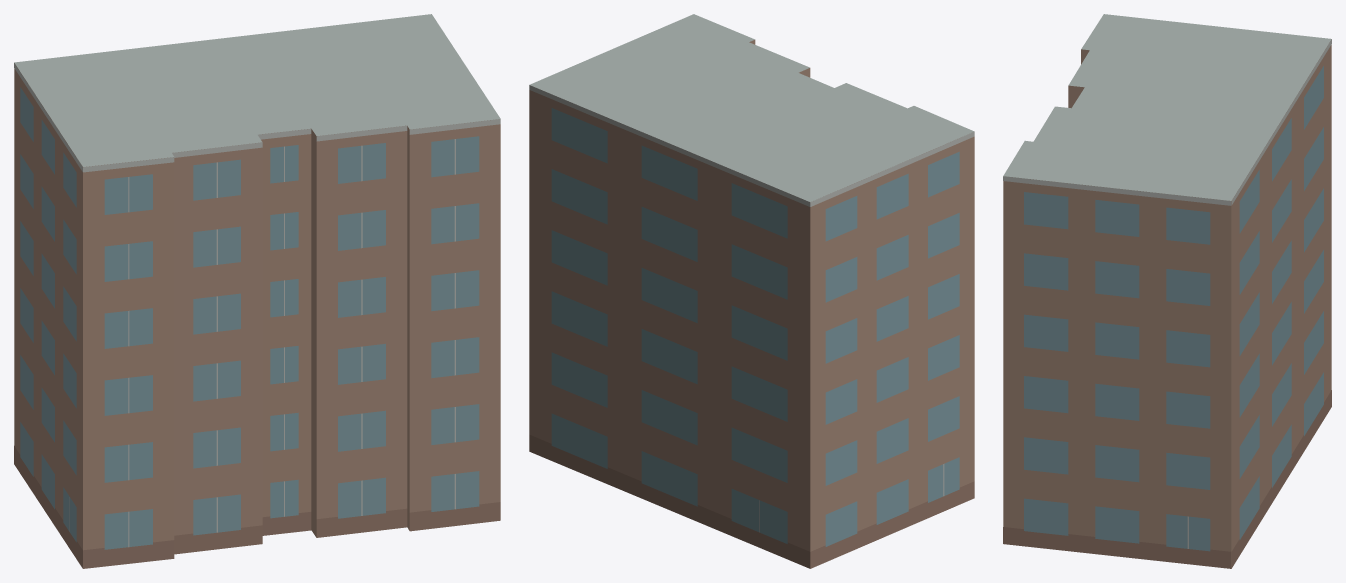
The model's file is survey-upis-32545954.glb.
3 views of the same model, side by side, from view 1: azimuth 30°, elevation 25°; view 2: azimuth 150°, elevation 25°; view 3: azimuth 270°, elevation 25° (orthographic). The views are drawn at different scales.
Parts seen in each view (by area): view 1: survey-upis-32545954.tmp; view 2: survey-upis-32545954.tmp; view 3: survey-upis-32545954.tmp.
Boxes of the visible parts, left/top/right/bottom form: survey-upis-32545954.tmp: left=14, top=14, right=500, bottom=568; survey-upis-32545954.tmp: left=529, top=14, right=974, bottom=568; survey-upis-32545954.tmp: left=1003, top=14, right=1331, bottom=568.
Bounding box in the file's own units: 19.96 × 18.3 × 14.83.
